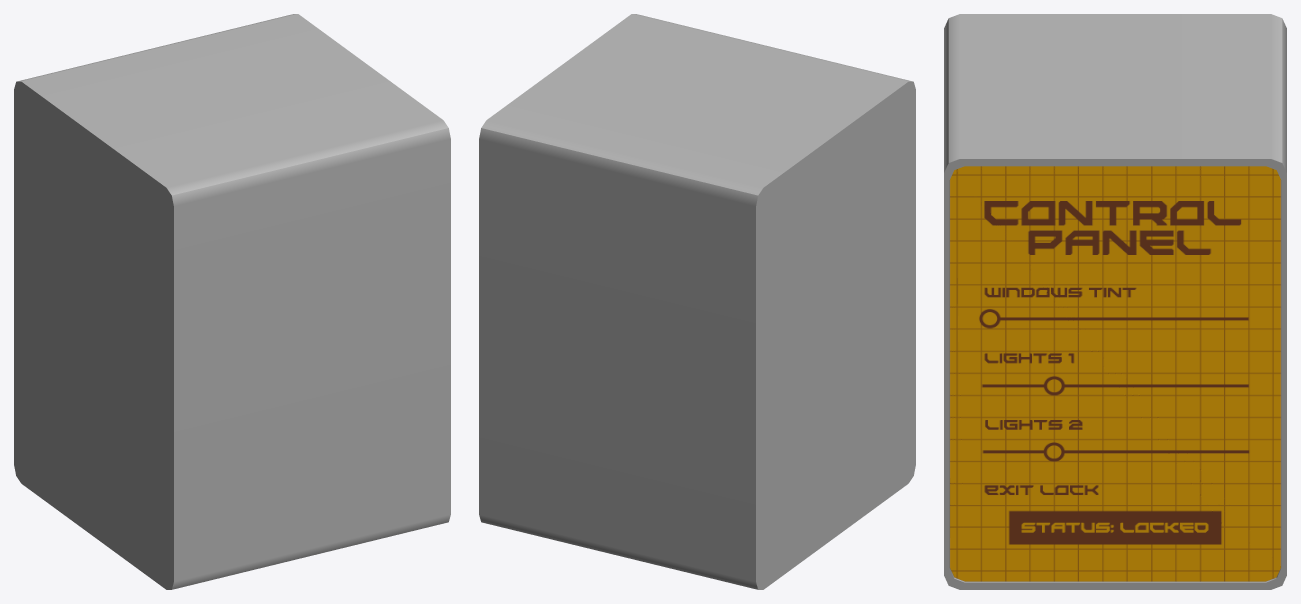
The model's file is control_panel.fbx.
3 views of the same model, side by side, from view 1: azimuth 30°, elevation 25°; view 2: azimuth 150°, elevation 25°; view 3: azimuth 270°, elevation 25° (orthographic). The views are drawn at different scales.
Visible parts, largest first — view 1: pCube38; view 2: pCube38; view 3: pCube38.
Boxes of the visible parts, box(x1,y1,x2,y2) form: pCube38: box(14, 14, 450, 589); pCube38: box(479, 14, 915, 589); pCube38: box(944, 14, 1286, 589).
Size of the model in its own units: 1.62 by 2.25 by 1.62.
Materials: 2 (1 with a texture image).
